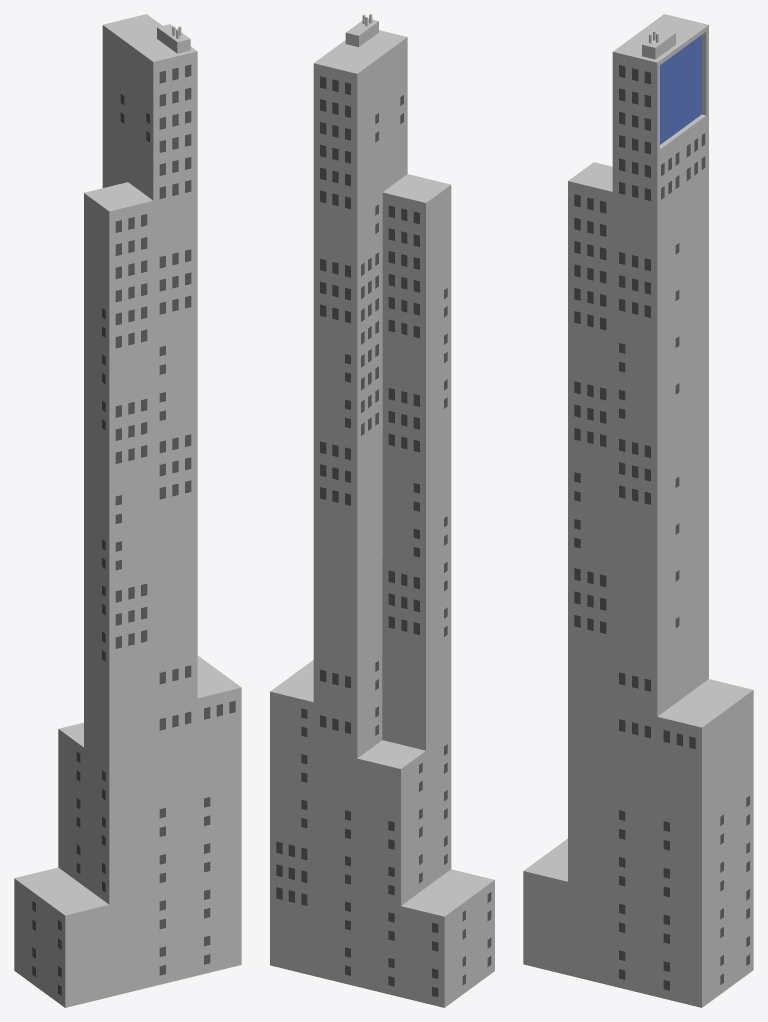
The model's file is SkyScraperModule01.fbx.
3 views of the same model, side by side, from view 1: azimuth 30°, elevation 25°; view 2: azimuth 150°, elevation 25°; view 3: azimuth 330°, elevation 25° (orthographic). The views are drawn at different scales.
Parts seen in each view (by area): view 1: Skyscraper.001; view 2: Skyscraper.001; view 3: Skyscraper.001.
Boxes of the visible parts, bbox=[...] form: Skyscraper.001: bbox=[14, 14, 241, 1007]; Skyscraper.001: bbox=[270, 14, 494, 1007]; Skyscraper.001: bbox=[523, 14, 753, 1007].
Bounding box in the file's own units: 400 × 2043 × 200.
